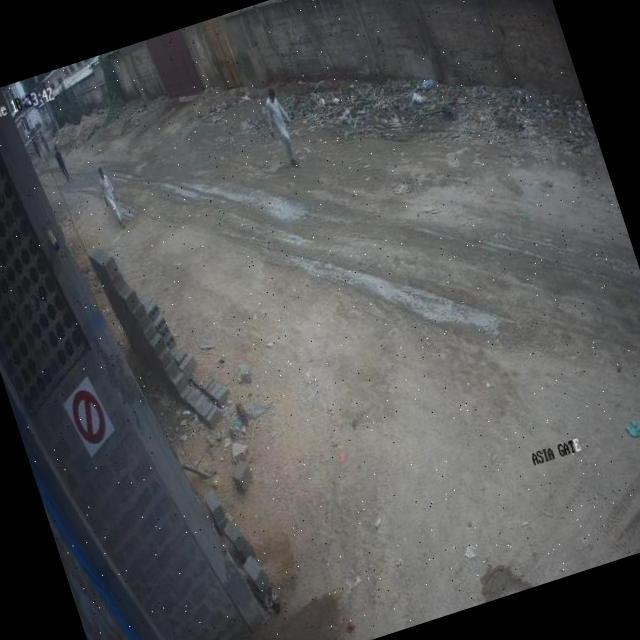person: (258, 86, 306, 170), (92, 165, 130, 232), (50, 140, 77, 184), (28, 134, 48, 163), (39, 128, 56, 154)
